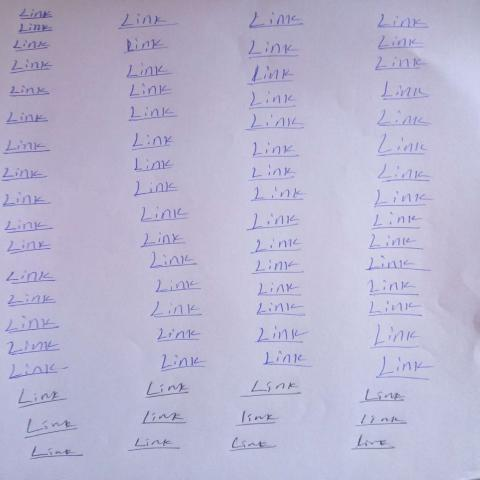Link: (374, 356, 434, 382), (369, 323, 421, 351), (238, 379, 305, 400), (372, 188, 435, 209), (245, 112, 307, 133), (116, 12, 181, 32), (375, 134, 429, 158), (246, 210, 300, 234), (377, 163, 433, 186), (249, 234, 305, 257), (15, 387, 71, 410), (24, 418, 80, 441), (375, 108, 434, 129), (365, 254, 430, 273), (3, 314, 61, 335), (366, 298, 424, 319), (247, 10, 307, 30), (247, 39, 301, 61), (367, 232, 425, 252), (148, 300, 206, 320), (6, 361, 61, 382), (245, 64, 297, 86), (367, 277, 421, 298), (247, 89, 298, 111), (251, 185, 307, 205), (253, 326, 311, 345), (370, 211, 425, 231), (380, 81, 432, 102), (7, 338, 61, 358), (148, 250, 199, 271), (248, 257, 304, 276), (139, 205, 189, 226), (142, 378, 192, 399), (126, 105, 181, 124), (29, 443, 87, 461), (373, 55, 429, 73), (159, 352, 207, 373), (3, 190, 56, 209), (248, 164, 298, 184), (375, 33, 427, 52), (250, 141, 302, 160), (5, 236, 52, 257), (132, 179, 181, 199), (1, 218, 55, 236), (140, 230, 184, 252), (126, 436, 182, 453), (130, 132, 175, 153), (376, 14, 431, 31), (353, 413, 411, 429), (234, 409, 280, 429), (5, 269, 59, 286), (6, 293, 60, 310), (262, 351, 313, 369), (122, 36, 170, 55), (254, 301, 307, 318), (3, 138, 53, 156), (8, 58, 55, 77), (127, 83, 176, 101), (154, 326, 203, 344), (228, 435, 277, 453), (125, 63, 176, 80), (139, 410, 189, 427), (1, 166, 48, 184), (358, 388, 407, 405), (349, 434, 398, 451), (154, 278, 206, 294), (257, 280, 303, 298), (132, 156, 174, 174), (5, 111, 53, 126), (7, 85, 53, 100), (11, 39, 52, 55), (17, 7, 56, 22), (17, 21, 56, 36)
